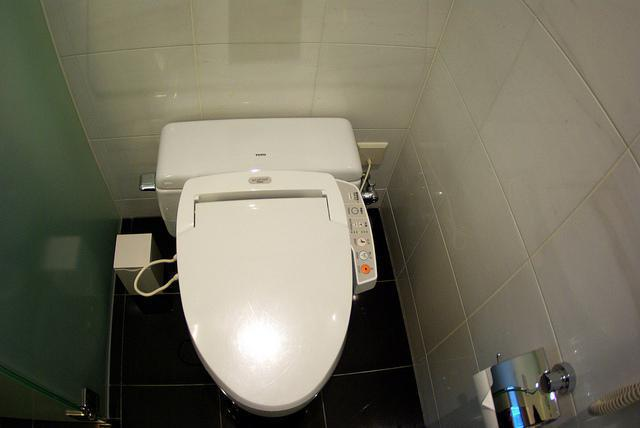Sanitario: (140, 117, 383, 417)
